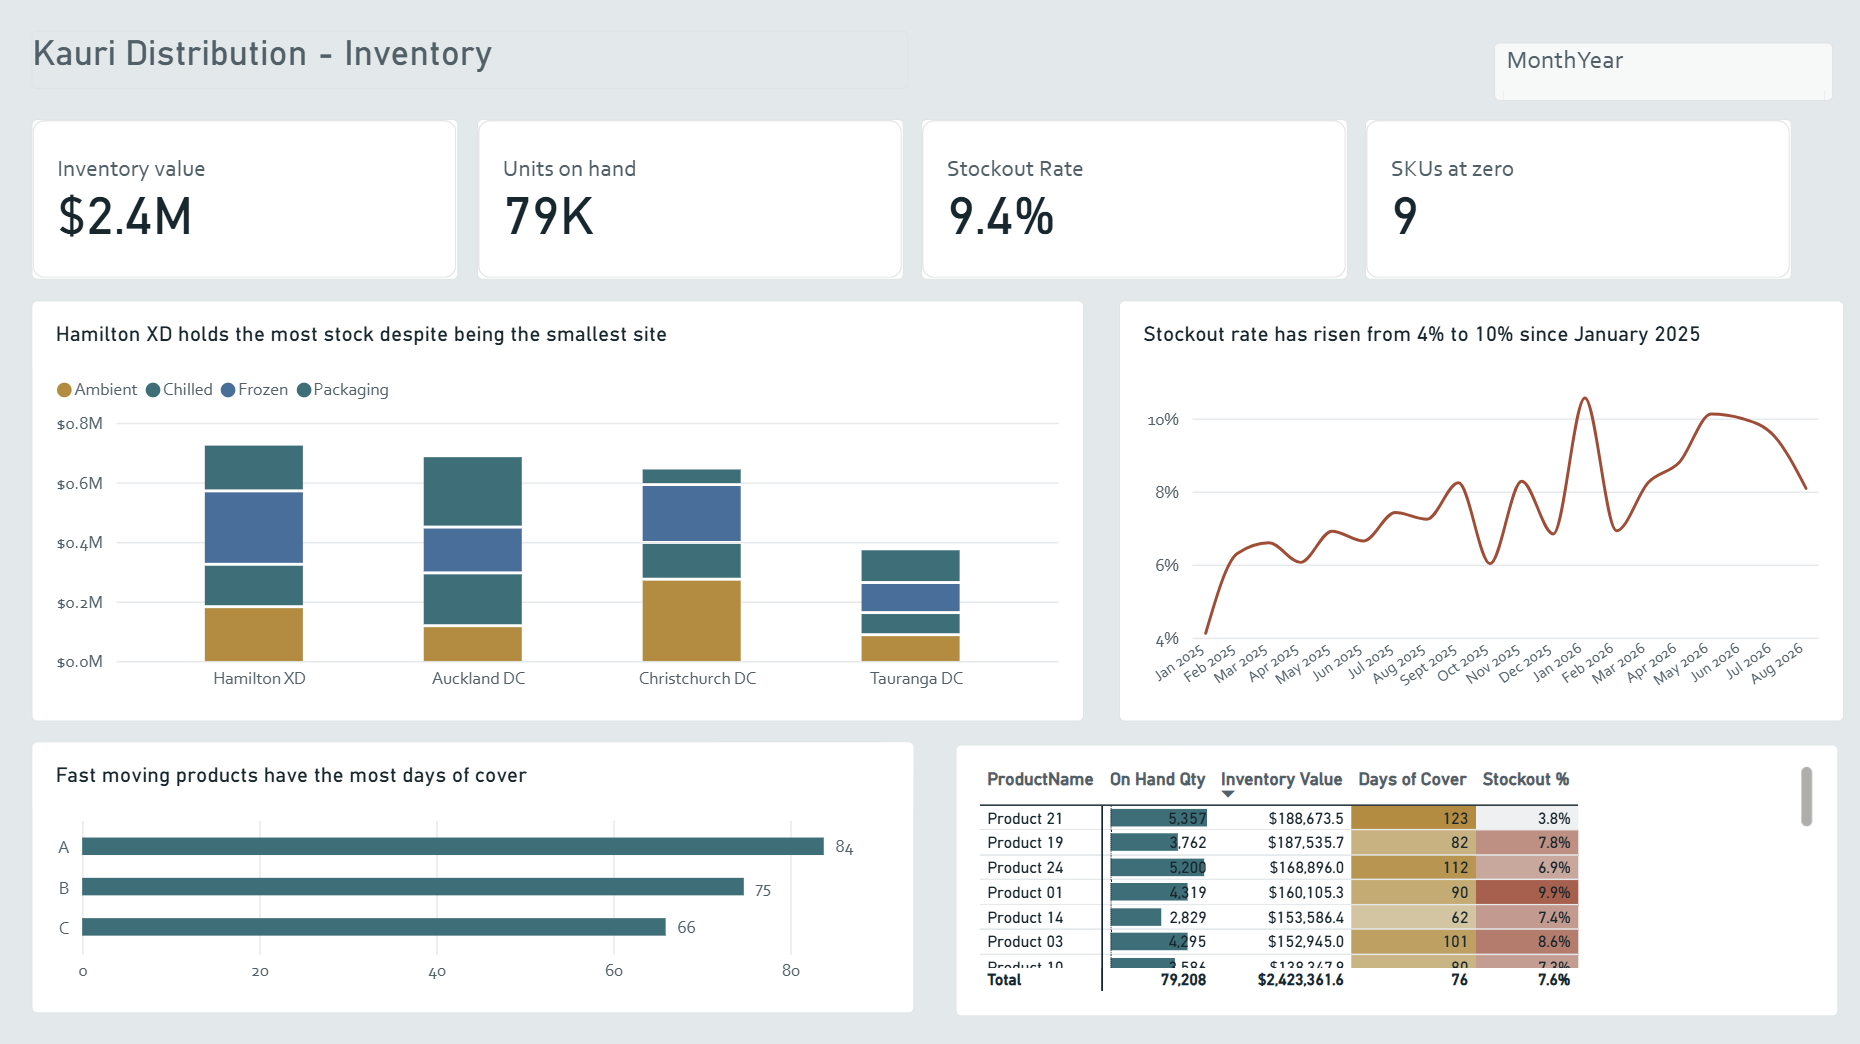

What the dashboard file says about the page in this screenshot:
{"tool":"powerbi","page":{"name":"Inventory","canvas":[1280,720],"ordinal":1},"visuals":[{"type":"cardVisual","fields":{"Data":["_Measures.Inventory Value"]},"box":[24,84,292,110],"z":0},{"type":"textbox","box":[24,24,600,40],"z":1000},{"type":"cardVisual","fields":{"Data":["_Measures.On Hand Qty"]},"box":[328,84,292,110],"z":2000},{"type":"cardVisual","fields":{"Data":["_Measures.Stockout Rate %"]},"box":[632,84,292,110],"z":3000},{"type":"cardVisual","fields":{"Data":["_Measures.Stockout SKUs"]},"box":[936,84,292,110],"z":4000},{"type":"columnChart","title":"Hamilton XD holds the most stock despite being the smallest site","fields":{"Category":["DimWarehouse.WarehouseName"],"Series":["DimProduct.Category"],"Y":["_Measures.Inventory Value"]},"box":[24,208,720,288],"z":5000},{"type":"lineChart","title":"Stockout rate has risen from 4% to 10% since January 2025","fields":{"Category":["DimDate.MonthYear"],"Y":["_Measures.Stockout Rate Period %"]},"box":[768,208,496,288],"z":6000},{"type":"clusteredBarChart","title":"Fast moving products have the most days of cover","fields":{"Category":["DimProduct.ABCClass"],"Y":["_Measures.Days of Cover"]},"box":[24,510,604,186],"z":7000},{"type":"pivotTable","fields":{"Rows":["DimProduct.ProductName"],"Values":["_Measures.On Hand Qty","_Measures.Inventory Value","_Measures.Days of Cover","_Measures.Stockout Rate Period %"]},"box":[656,512,604,186],"z":8000},{"type":"slicer","fields":{"Values":["DimDate.MonthYear"]},"box":[1024,32,232,40],"z":9000}]}

Visuals, with their boxes in screenshot pixels (x1, y1, x2, y2), scaled from the page's 1280x720 canvas onto the 1860x1044 screenshot:
cardVisual - _Measures.Inventory Value: 35,122,459,281
textbox: 35,35,907,93
cardVisual - _Measures.On Hand Qty: 477,122,901,281
cardVisual - _Measures.Stockout Rate %: 918,122,1343,281
cardVisual - _Measures.Stockout SKUs: 1360,122,1784,281
"Hamilton XD holds the most stock despite being the smallest site" columnChart: 35,302,1081,719
"Stockout rate has risen from 4% to 10% since January 2025" lineChart: 1116,302,1837,719
"Fast moving products have the most days of cover" clusteredBarChart: 35,740,913,1009
pivotTable - DimProduct.ProductName x _Measures.On Hand Qty: 953,742,1831,1012
slicer - DimDate.MonthYear: 1488,46,1825,104
